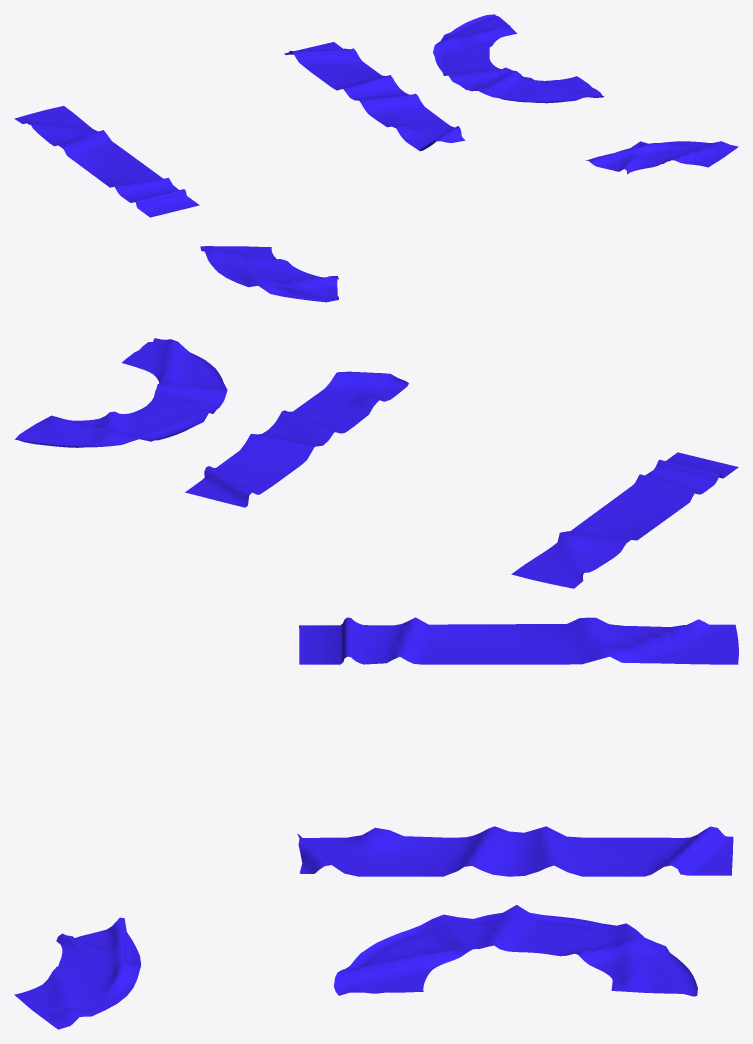
The model's file is alfombra_low.FBX.
3 renders of one model, top to bottom at view 1: azimuth 30°, elevation 25°; view 2: azimuth 150°, elevation 25°; view 3: azimuth 270°, elevation 25°, orthographic. The views are drawn at different scales.
Visible parts, largest first — view 1: alfombra1_low, alfombra2_low, alfombra4_low, alfombra3_low; view 2: alfombra2_low, alfombra1_low, alfombra4_low, alfombra3_low; view 3: alfombra1_low, alfombra2_low, alfombra4_low, alfombra3_low.
Boxes of the visible parts, x1=… form: alfombra1_low: x1=14, y1=106, x2=199, y2=217; alfombra2_low: x1=284, y1=42, x2=465, y2=151; alfombra4_low: x1=433, y1=14, x2=603, y2=103; alfombra3_low: x1=586, y1=141, x2=738, y2=174; alfombra2_low: x1=185, y1=371, x2=408, y2=507; alfombra1_low: x1=511, y1=452, x2=738, y2=588; alfombra4_low: x1=14, y1=338, x2=227, y2=447; alfombra3_low: x1=200, y1=246, x2=338, y2=302; alfombra1_low: x1=299, y1=617, x2=738, y2=664; alfombra2_low: x1=297, y1=826, x2=733, y2=876; alfombra4_low: x1=334, y1=905, x2=697, y2=996; alfombra3_low: x1=14, y1=917, x2=140, y2=1029.
Size of the model in its own units: 9990 by 178 by 7553.
